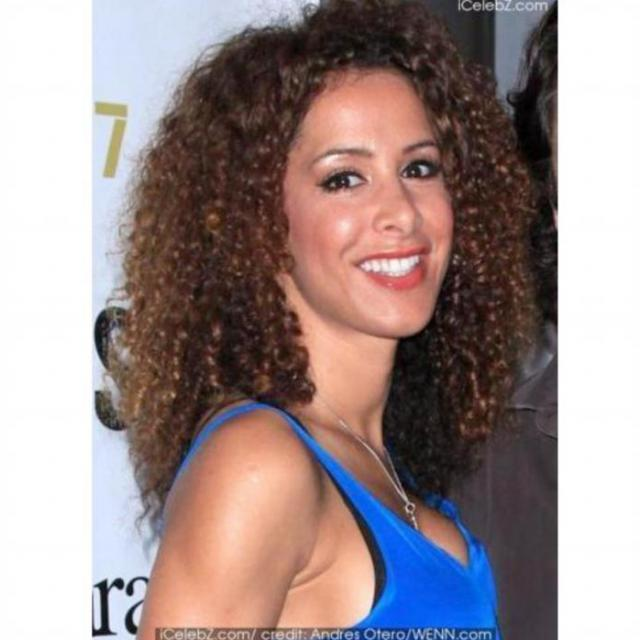live: (252, 64, 470, 348)
